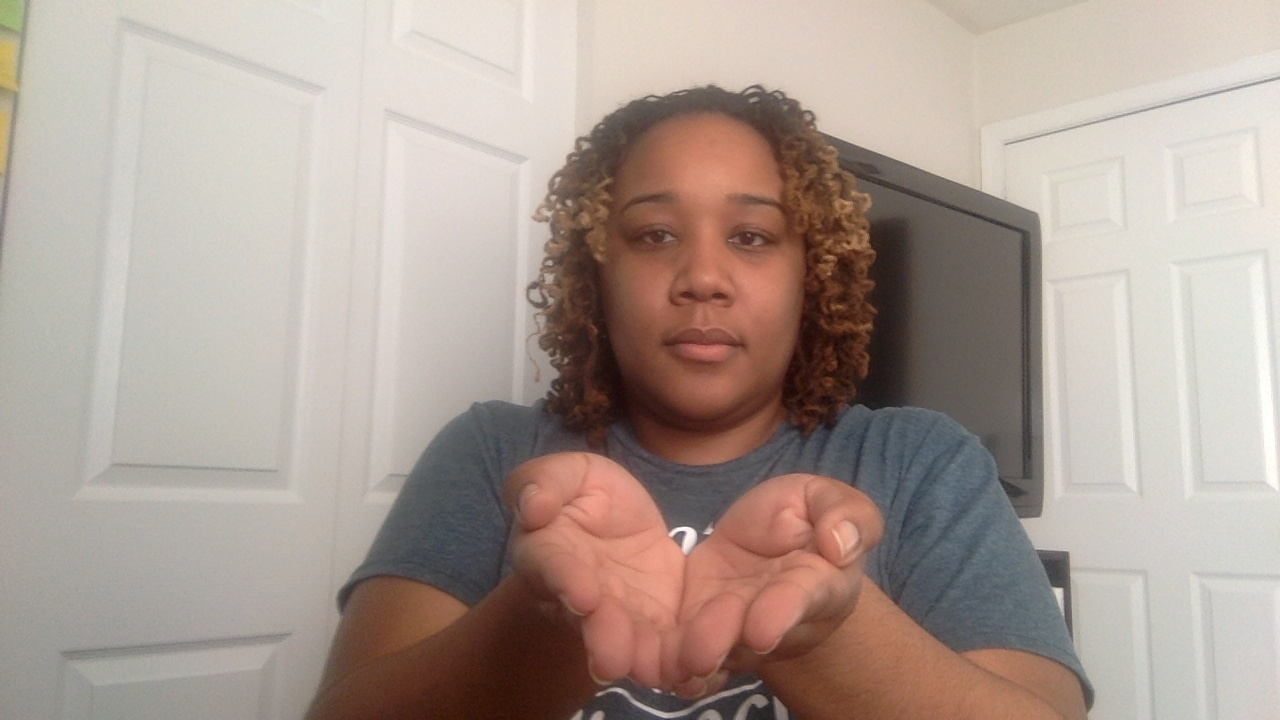book: (497, 451, 896, 706)
